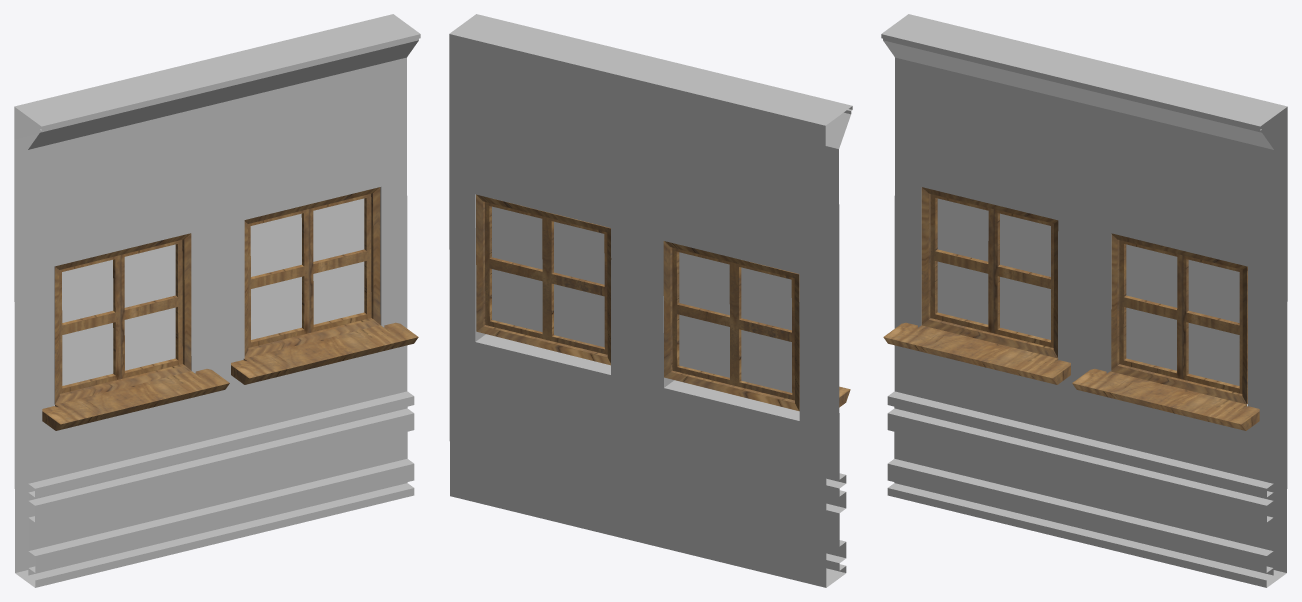
File: wall_with_two_window.fbx
3 renders of one model, left to right at view 1: azimuth 30°, elevation 25°; view 2: azimuth 150°, elevation 25°; view 3: azimuth 330°, elevation 25°, orthographic.
Parts seen in each view (by area): view 1: wall.003, glass_left, glass_right, window_left, window_right, window_left_frame, window_right_frame; view 2: wall.003, glass_left, glass_right, window_left_frame, window_right_frame, window_left, window_right; view 3: wall.003, glass_right, glass_left, window_right, window_left, window_right_frame, window_left_frame.
Part boxes in pixels (x1,y1,x2,y2): wall.003: (14, 14, 420, 587); glass_left: (62, 244, 175, 385); glass_right: (250, 198, 364, 339); window_left: (42, 233, 229, 430); window_right: (231, 187, 418, 384); window_left_frame: (59, 240, 182, 393); window_right_frame: (248, 194, 371, 347); wall.003: (449, 14, 852, 587); glass_left: (679, 252, 791, 392); glass_right: (492, 206, 604, 347); window_left_frame: (672, 247, 794, 400); window_right_frame: (485, 202, 607, 354); window_left: (663, 241, 850, 411); window_right: (476, 194, 611, 365); wall.003: (881, 14, 1287, 587); glass_right: (1126, 244, 1239, 385); glass_left: (937, 198, 1050, 339); window_right: (1072, 233, 1259, 430); window_left: (883, 187, 1070, 384); window_right_frame: (1119, 240, 1242, 393); window_left_frame: (930, 194, 1053, 347).
Bounding box in the file's own units: 240 × 282 × 39.35.
